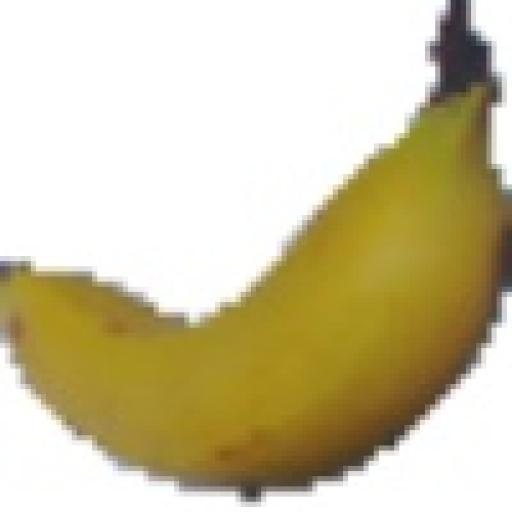banana: (0, 82, 506, 486), (47, 272, 184, 332)
